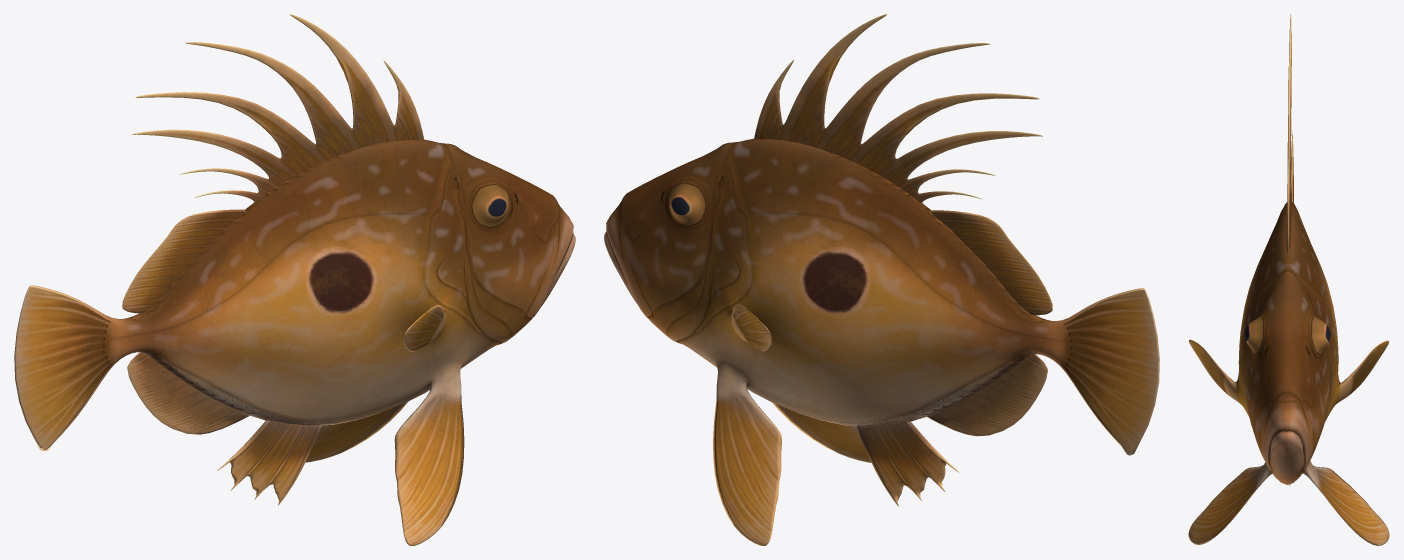
Rendered from JohnDory.glb.
3 views of the same model, side by side, from view 1: azimuth 30°, elevation 25°; view 2: azimuth 150°, elevation 25°; view 3: azimuth 270°, elevation 25° (orthographic). The views are drawn at different scales.
Parts seen in each view (by area): view 1: JohnDory_01; view 2: JohnDory_01; view 3: JohnDory_01.
Part boxes in pixels (x1,y1,x2,y2): JohnDory_01: (14, 14, 575, 545); JohnDory_01: (604, 14, 1159, 545); JohnDory_01: (1188, 14, 1389, 545).
Bounding box in the file's own units: 4.81 × 4.19 × 1.69.
Materials: 1 (1 with a texture image).
